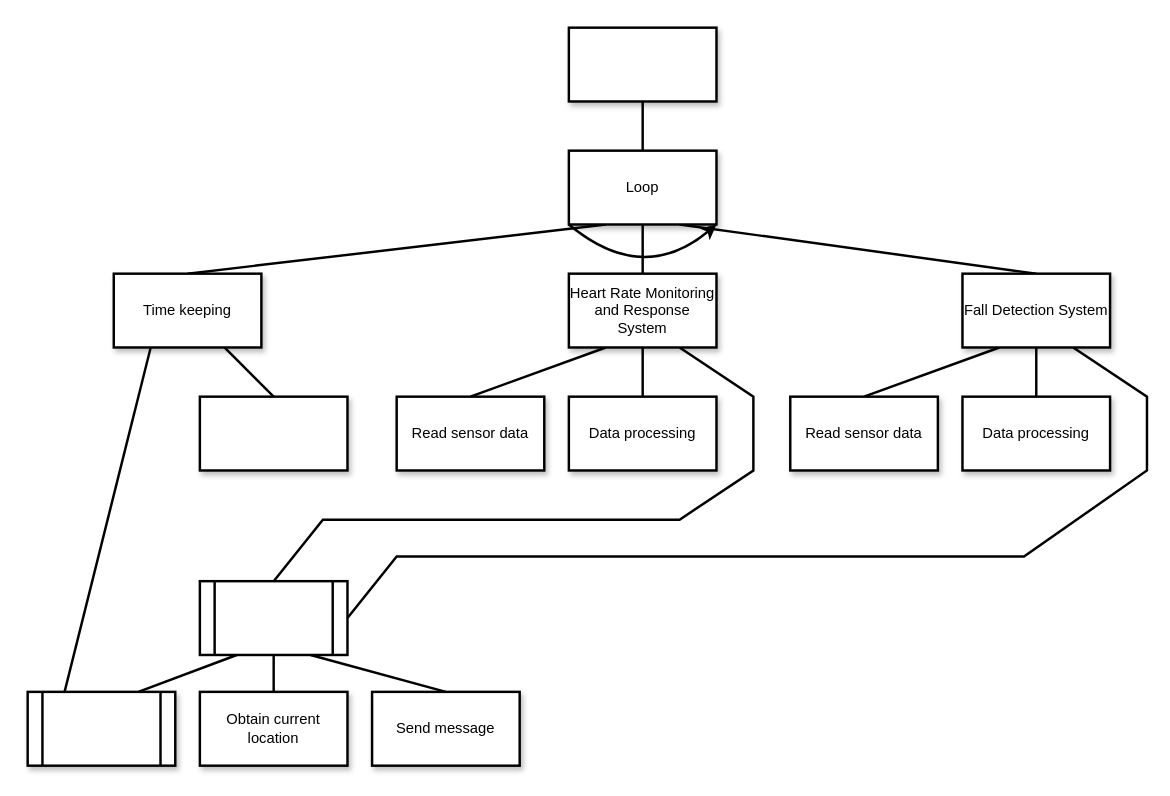
Image size: 1170x796. Some labels were removed from this diagram. The shapes that lost their labels are listed below. From the top down, each one's centre as x and y in pixels, then its label:
At point (643, 66): "Startup".
At point (274, 435): "Display time".
At point (273, 617): "Notify third parties".
At point (102, 730): "Obtain current time".
